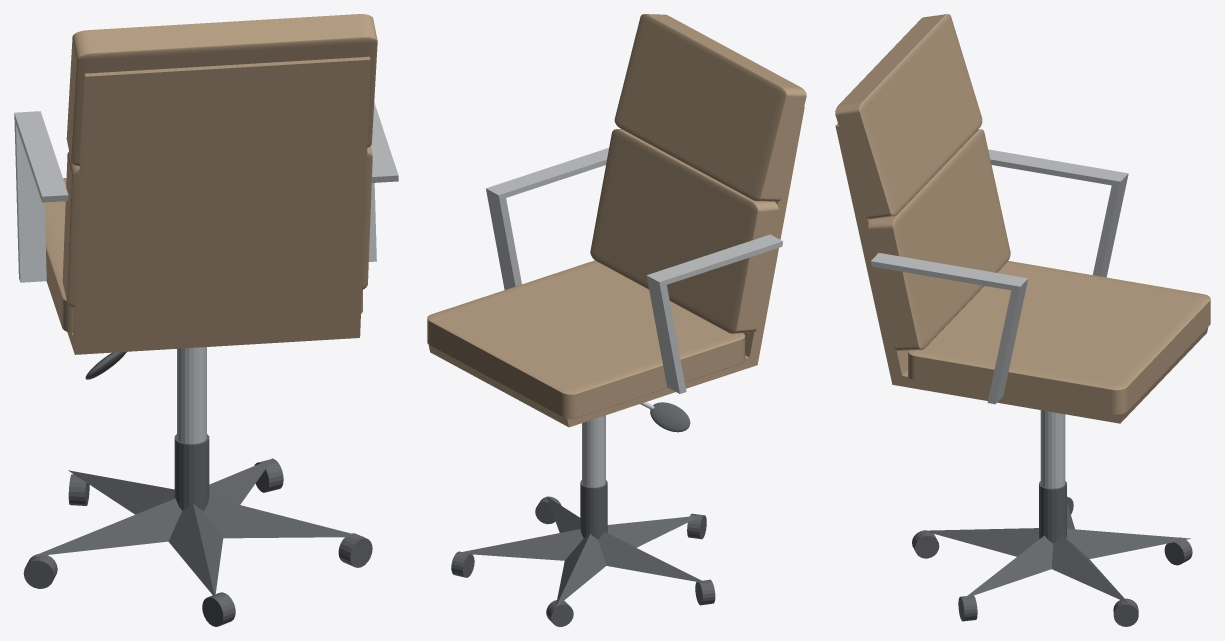
File: chair.glb
3 views of the same model, side by side, from view 1: azimuth 30°, elevation 25°; view 2: azimuth 150°, elevation 25°; view 3: azimuth 270°, elevation 25° (orthographic). The views are drawn at different scales.
Visible parts, largest first — view 1: Mesh_Mesh_head_geo.001_lambert2SG.001; view 2: Mesh_Mesh_head_geo.001_lambert2SG.001; view 3: Mesh_Mesh_head_geo.001_lambert2SG.001.
Boxes of the visible parts, bbox=[...] form: Mesh_Mesh_head_geo.001_lambert2SG.001: bbox=[14, 14, 398, 626]; Mesh_Mesh_head_geo.001_lambert2SG.001: bbox=[427, 14, 806, 626]; Mesh_Mesh_head_geo.001_lambert2SG.001: bbox=[835, 14, 1210, 626].
Size of the model in its own units: 35.07 by 55.99 by 38.61.
